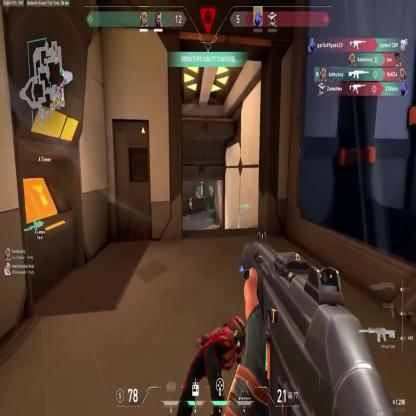enemy: (188, 196, 193, 216)
enemy_head: (190, 197, 192, 202)
